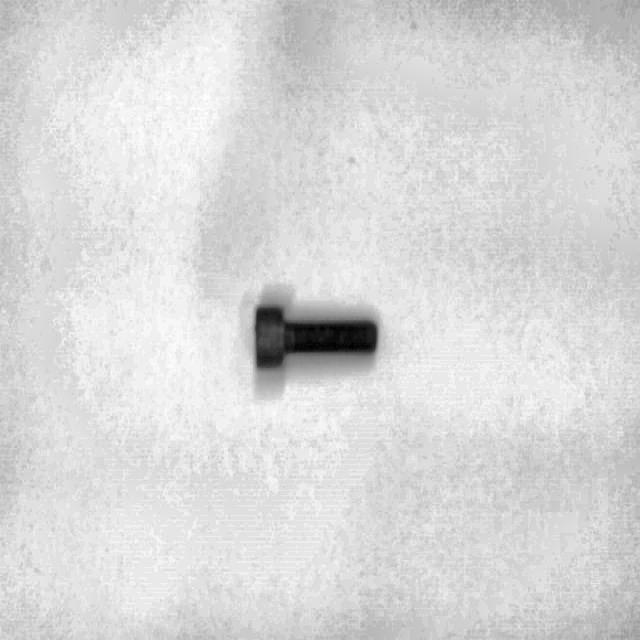Socket head cap screw: (252, 302, 378, 370)
